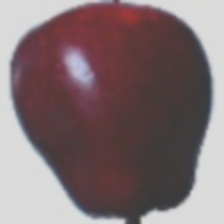apple: (28, 5, 224, 206)
